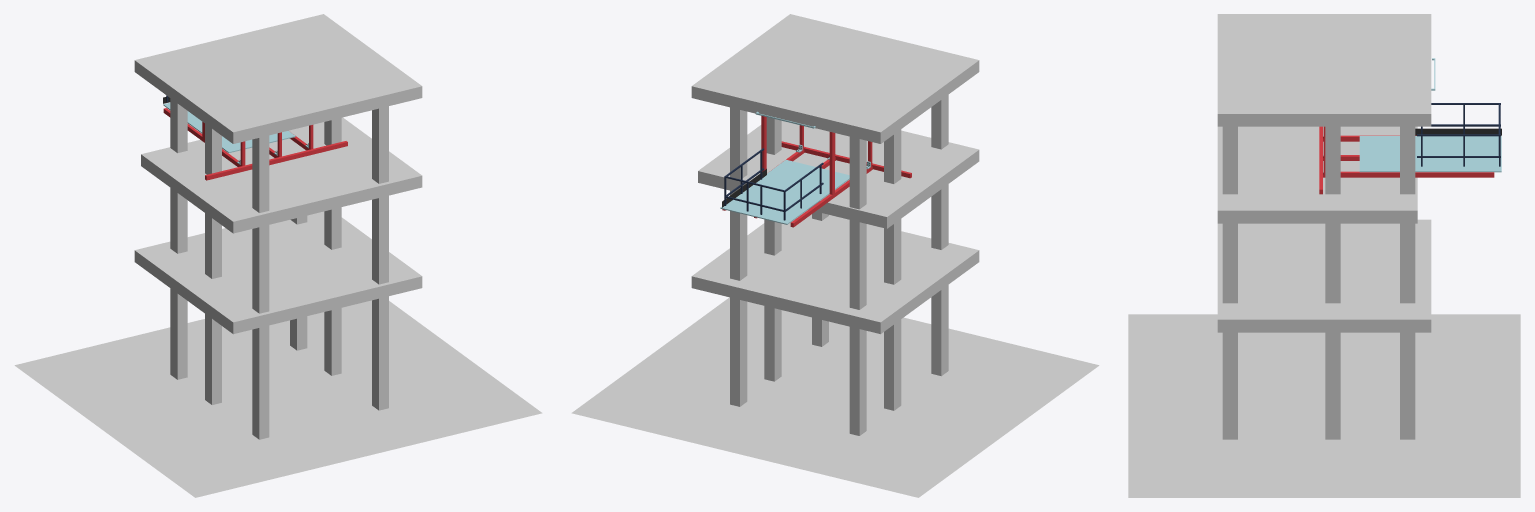
Rendered from Andamio Voladizo.fbx.
The picture shows the model from 3 angles, left to right: view 1: azimuth 30°, elevation 25°; view 2: azimuth 150°, elevation 25°; view 3: azimuth 270°, elevation 25°; orthographic projection. The views are drawn at different scales.
Visible parts, largest first — view 1: Cube, Cube.001; view 2: Cube, Cube.001; view 3: Cube, Cube.001.
Part boxes in pixels (x1,y1,x2,y2): Cube: (14,14,542,497); Cube.001: (163,95,347,180); Cube: (571,14,1099,497); Cube.001: (720,111,911,227); Cube: (1128,14,1520,497); Cube.001: (1319,58,1501,194).
Size of the model in its own units: 5600 by 5199 by 5059.
